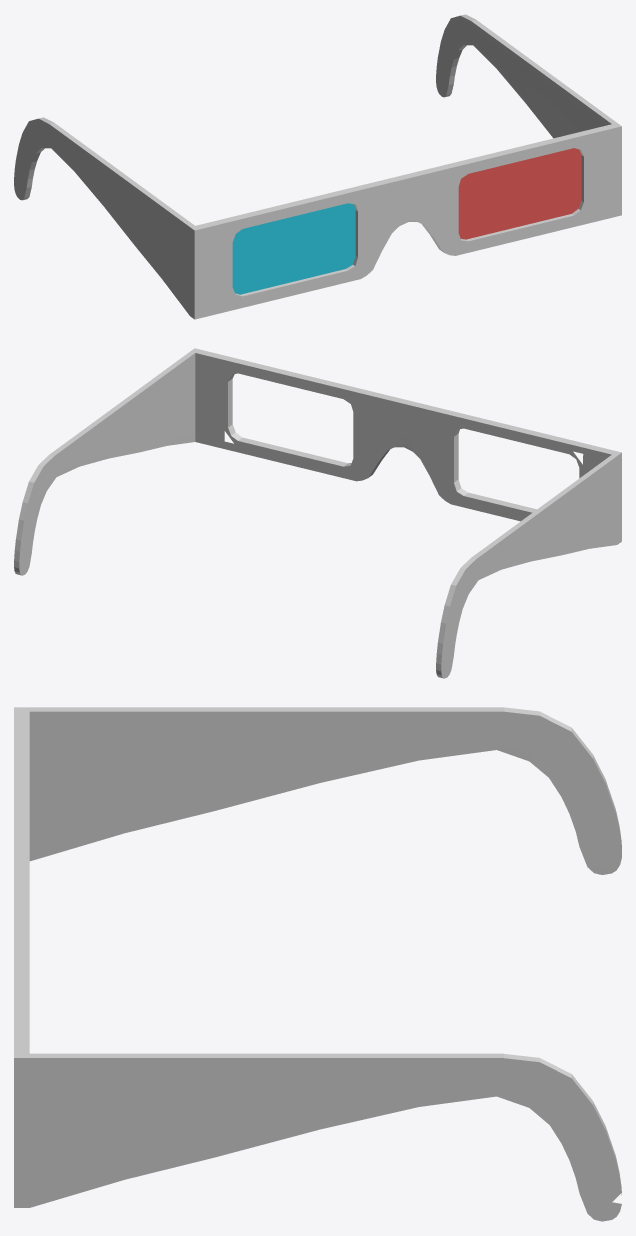
Rendered from 3d-glasses_v06.glb.
The picture shows the model from 3 angles, top to bottom: view 1: azimuth 30°, elevation 25°; view 2: azimuth 150°, elevation 25°; view 3: azimuth 270°, elevation 25°; orthographic projection. The views are drawn at different scales.
Parts seen in each view (by area): view 1: anaglyph_glass_pCube5, anaglyph_glass_pPlane2, pPlane1_anaglyph_glass; view 2: anaglyph_glass_pCube5; view 3: anaglyph_glass_pCube5.
Boxes of the visible parts, left/top/right/bottom form: anaglyph_glass_pCube5: left=14, top=14, right=621, bottom=319; anaglyph_glass_pPlane2: left=232, top=203, right=355, bottom=294; pPlane1_anaglyph_glass: left=458, top=148, right=581, bottom=239; anaglyph_glass_pCube5: left=14, top=348, right=621, bottom=678; anaglyph_glass_pCube5: left=14, top=707, right=621, bottom=1221.
Bounding box in the file's own units: 9.27 × 2.01 × 6.79.
